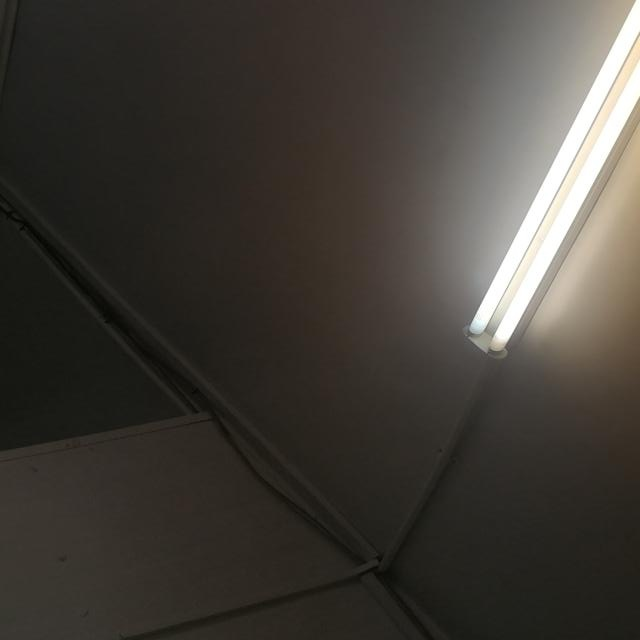fluorescent tube: (426, 0, 640, 387)
